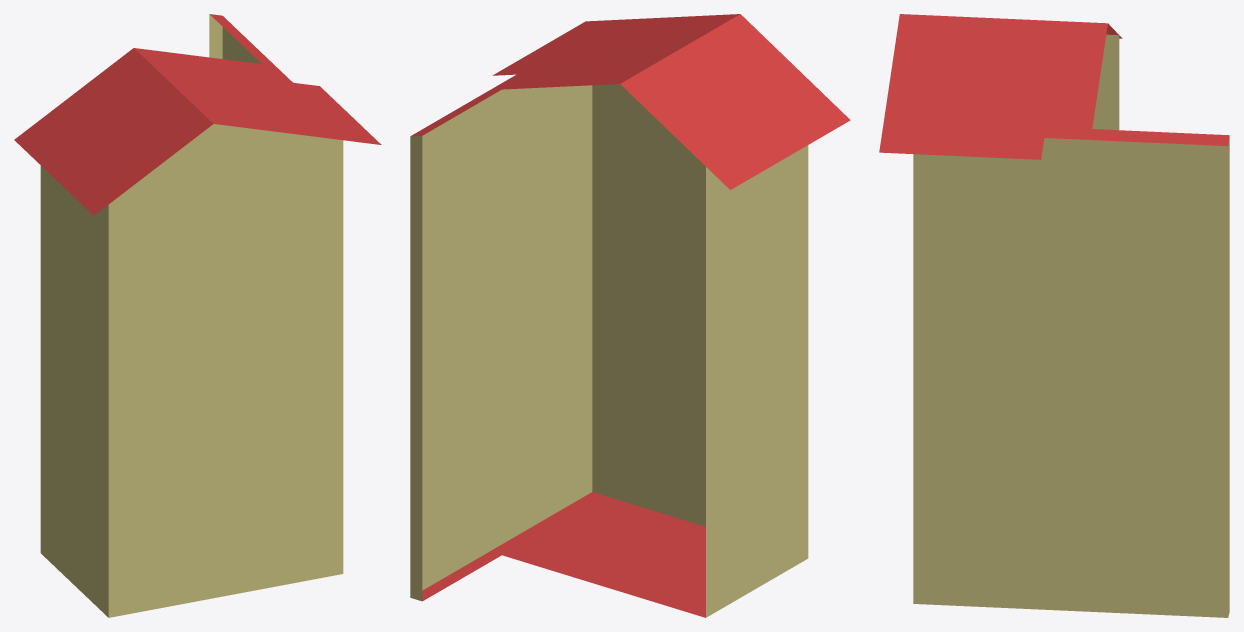
3 views of the same model, side by side, from view 1: azimuth 30°, elevation 25°; view 2: azimuth 150°, elevation 25°; view 3: azimuth 270°, elevation 25° (orthographic). The views are drawn at different scales.
Bounding box in the file's own units: 5.65 × 5.65 × 9.23.
